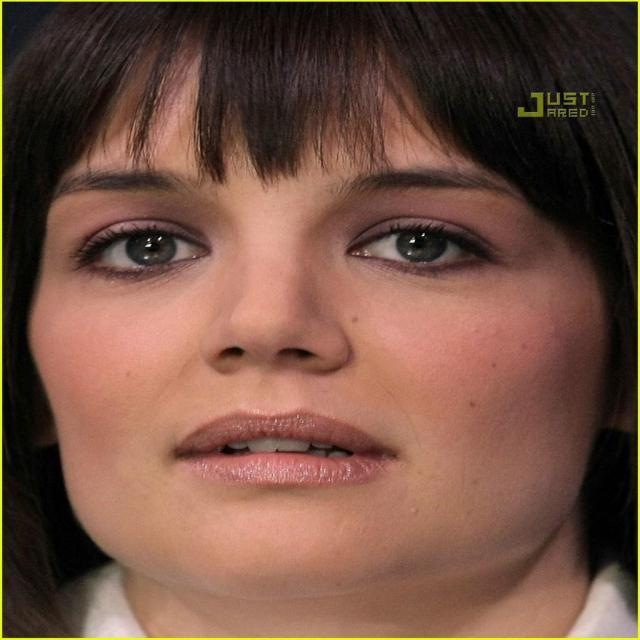Face: (49, 53, 607, 578)
